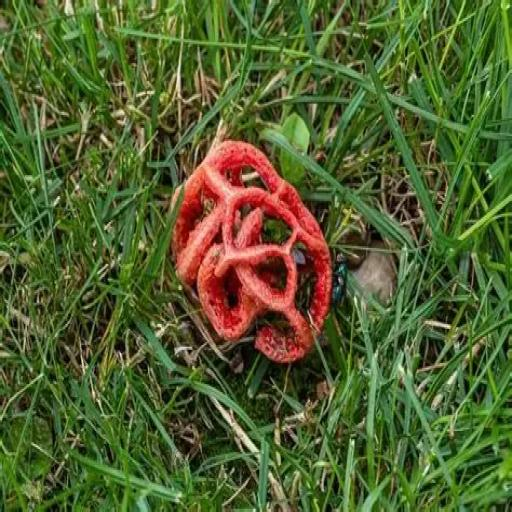Red Cage Fungus: (163, 132, 344, 384)
